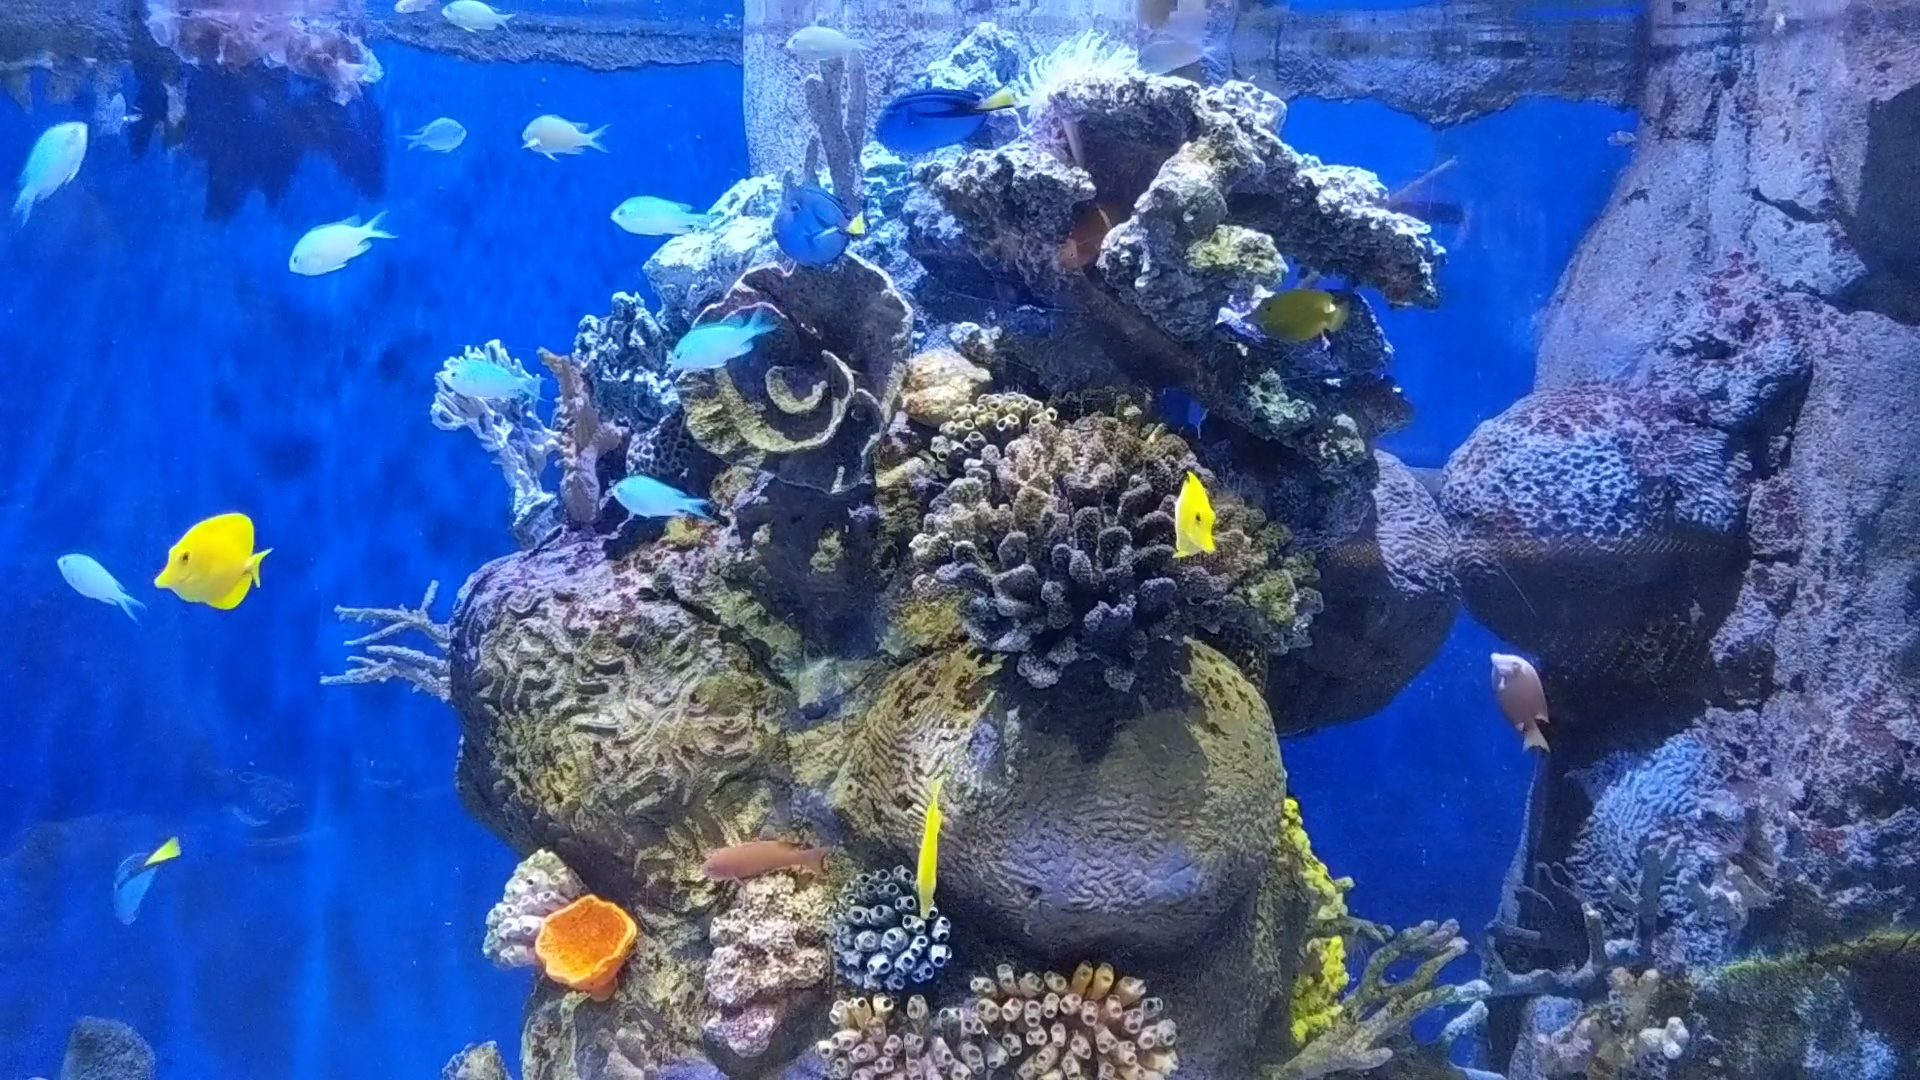blue tang surgeonfish: (858, 67, 1015, 160), (745, 167, 873, 280), (95, 825, 186, 943)
damselfish: (0, 103, 103, 219), (41, 542, 146, 647), (272, 193, 402, 274), (650, 302, 771, 376), (597, 458, 713, 531), (597, 181, 723, 243), (516, 83, 600, 160), (396, 95, 476, 173), (773, 9, 872, 63), (436, 357, 527, 407), (429, 0, 514, 41)
pink fish: (1474, 636, 1571, 766)
saddle butterfly fish: (138, 508, 274, 622), (881, 774, 967, 927), (1230, 257, 1358, 353), (1159, 456, 1230, 562)
